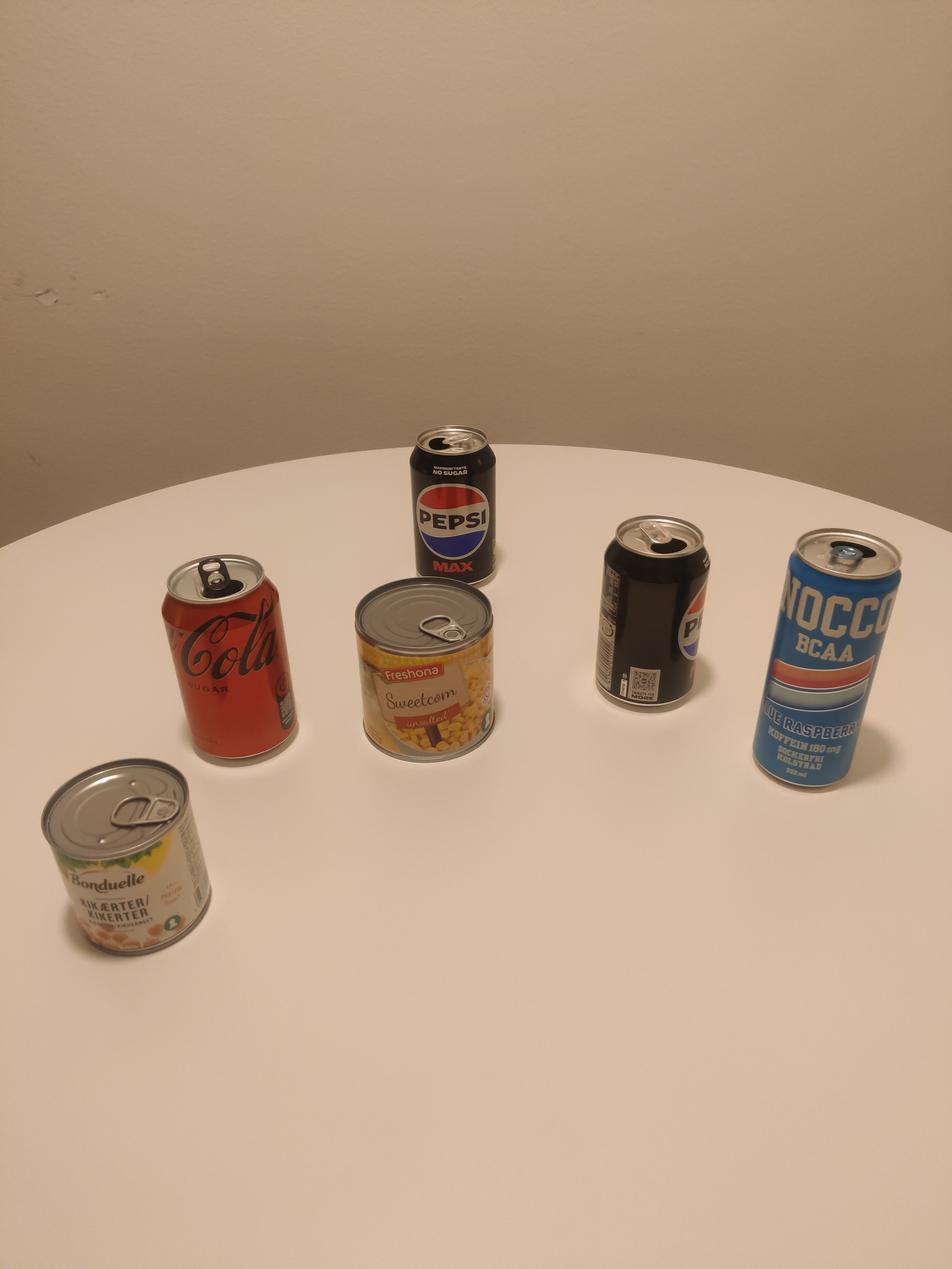Konservburk: (42, 756, 212, 958), (355, 550, 513, 758)
Pantburk: (749, 526, 905, 786), (161, 553, 298, 760), (595, 515, 711, 714), (409, 425, 497, 581)
